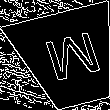M_S: (36, 28, 103, 89)
